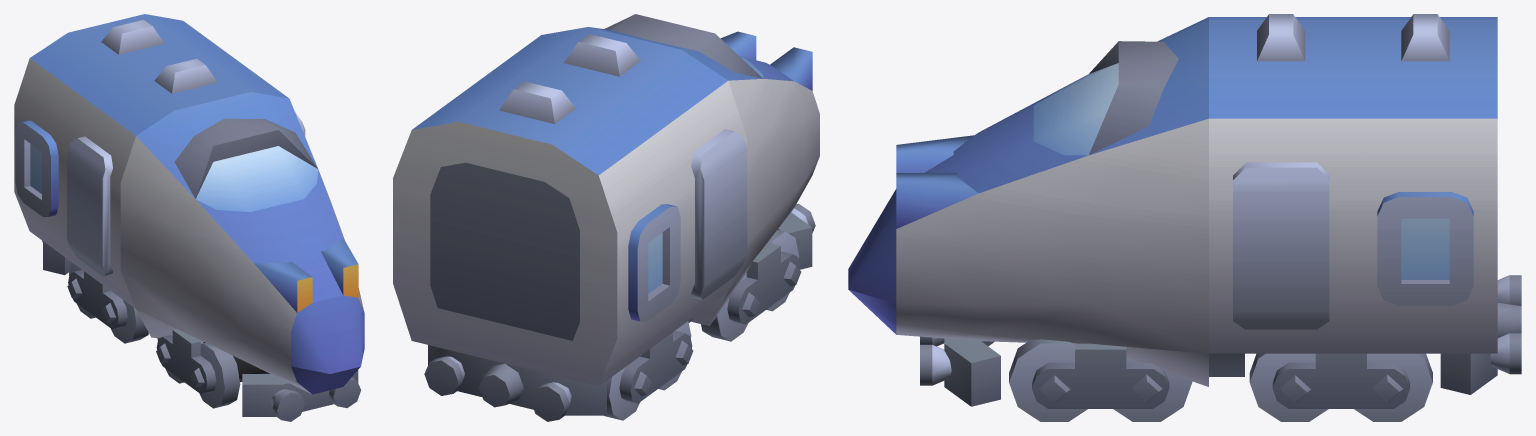
The model's file is k-train-train-electric-bullet-a.glb.
3 views of the same model, side by side, from view 1: azimuth 30°, elevation 25°; view 2: azimuth 150°, elevation 25°; view 3: azimuth 270°, elevation 25° (orthographic). The views are drawn at different scales.
Visible parts, largest first — view 1: train-electric-bullet-a, wheels-front, wheels-back; view 2: train-electric-bullet-a, wheels-front, wheels-back; view 3: train-electric-bullet-a, wheels-front, wheels-back.
Part boxes in pixels (x1,y1,x2,y2): train-electric-bullet-a: [14, 14, 364, 421]; wheels-front: [156, 329, 269, 408]; wheels-back: [67, 262, 148, 343]; train-electric-bullet-a: [393, 14, 819, 421]; wheels-front: [701, 230, 801, 341]; wheels-back: [604, 321, 693, 420]; train-electric-bullet-a: [848, 14, 1521, 406]; wheels-front: [1009, 339, 1192, 421]; wheels-back: [1249, 353, 1432, 421].
Bounding box in the file's own units: 1.32 × 1.64 × 2.8.
1 material, 1 textured.
